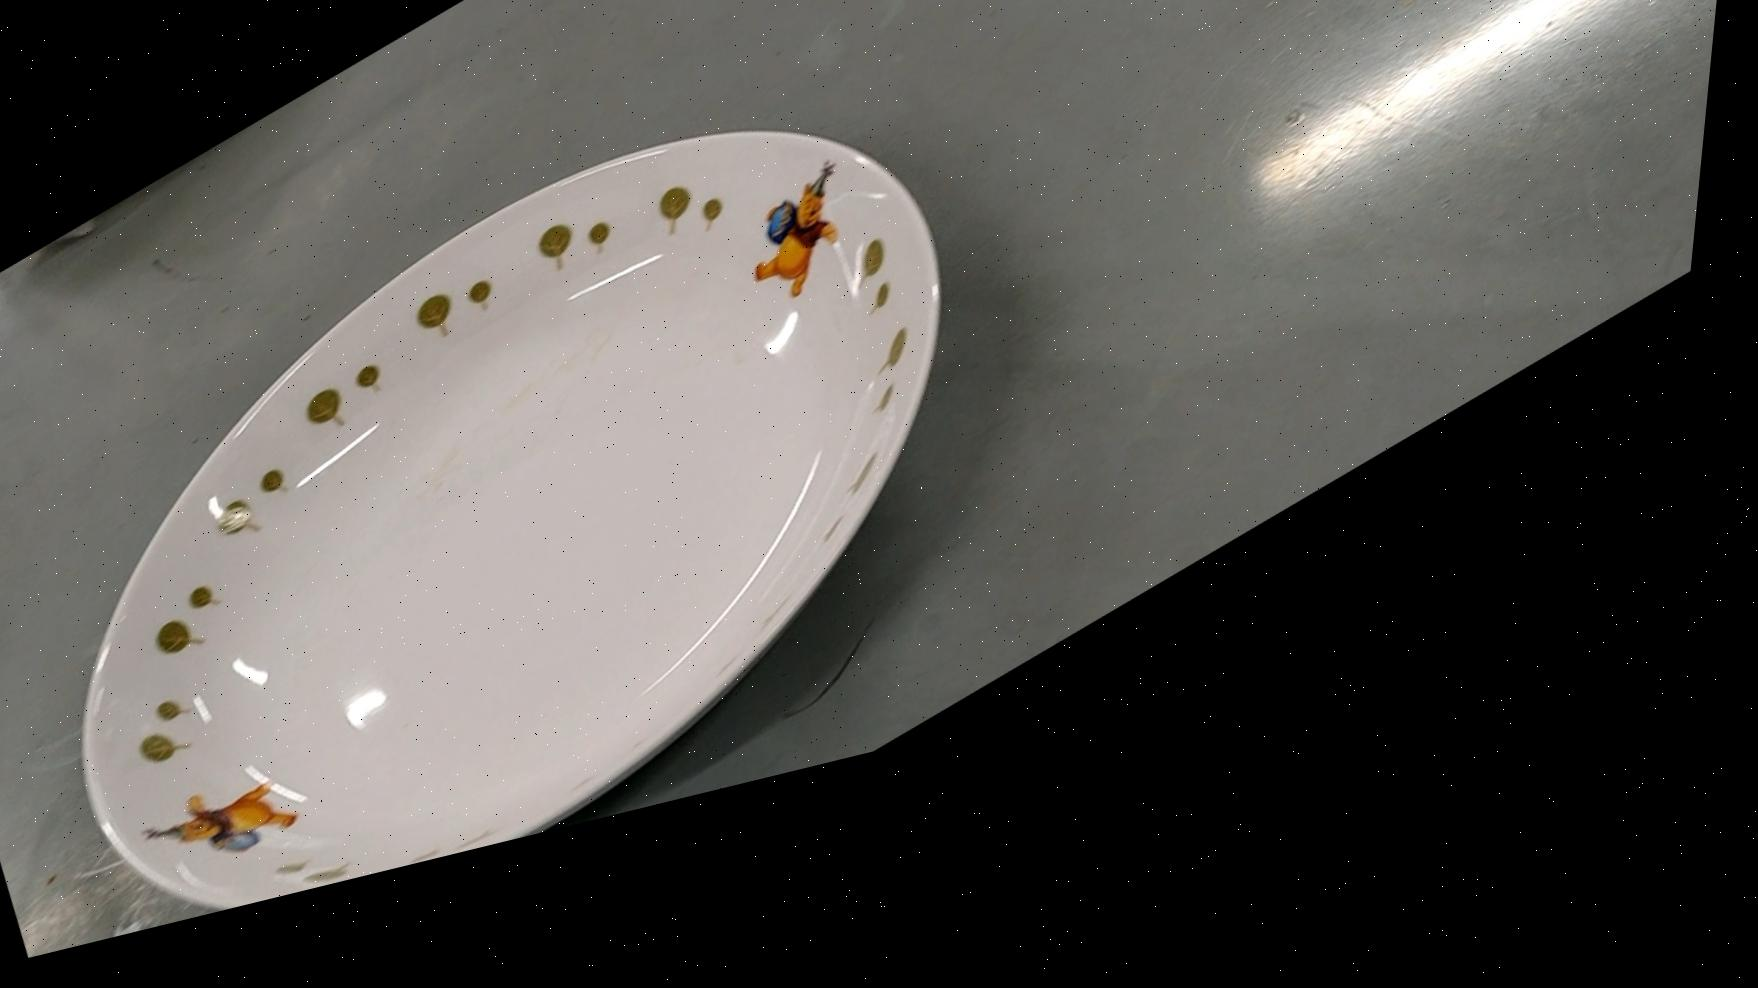plate: (0, 0, 1085, 978)
